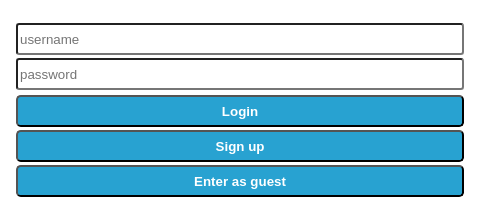
Test: App › render wrong credentials message
The width and height of the screenshot is (481, 223).
Click the button "Login" at x=240, y=111, box [16,95,464,127]
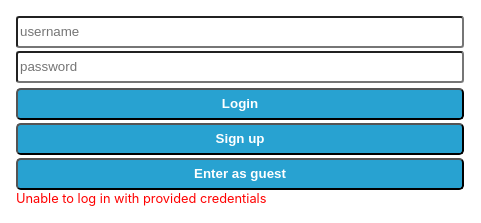
expect the text "Unable to log in with provided credentials" is shown: met, box [16,192,266,206]
